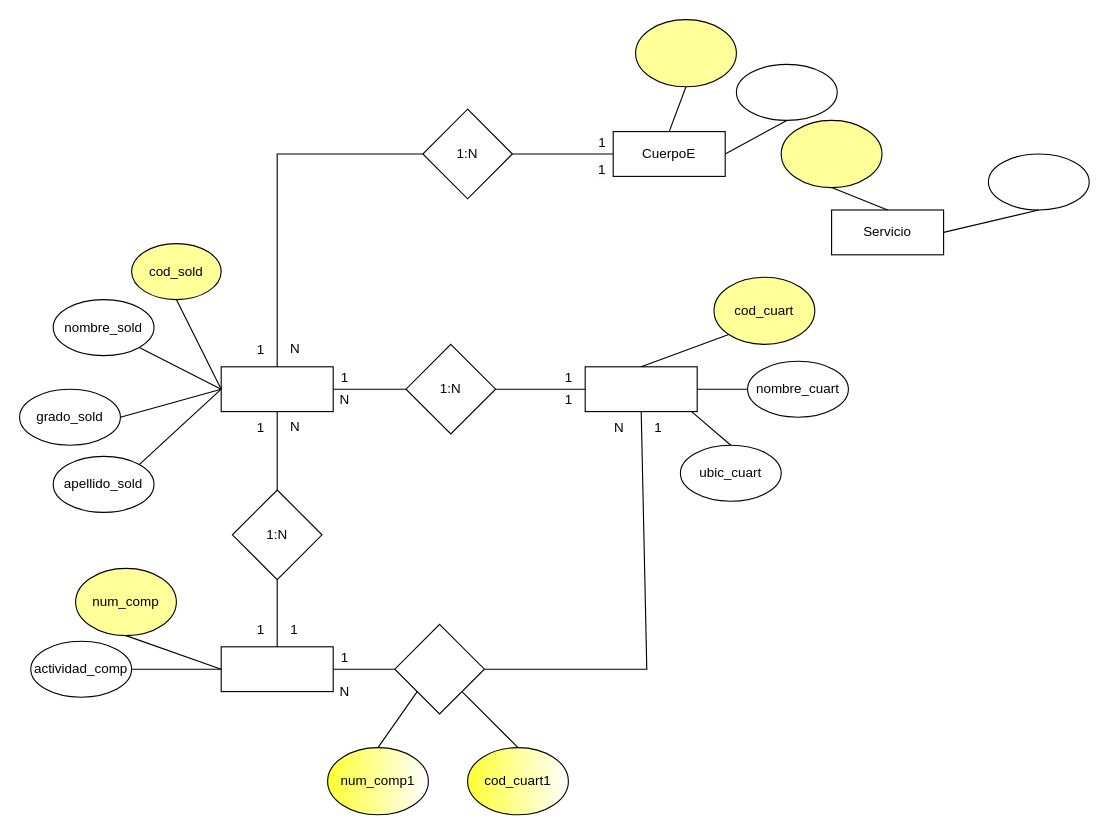
Image size: 1109x834. Some labels were removed from this diagram. The box of each missing label's shape, as (x1, y1, x2, y2) in pixels:
actividad_serv: (987, 153, 1089, 210)
cod_cuerpo: (634, 18, 736, 87)
cod_serv: (780, 119, 882, 188)
Compañia: (220, 646, 333, 692)
Cuartel: (584, 366, 697, 412)
denom_cuerpo: (735, 63, 837, 120)
N:M: (394, 623, 484, 714)
Soldado: (220, 366, 333, 412)
